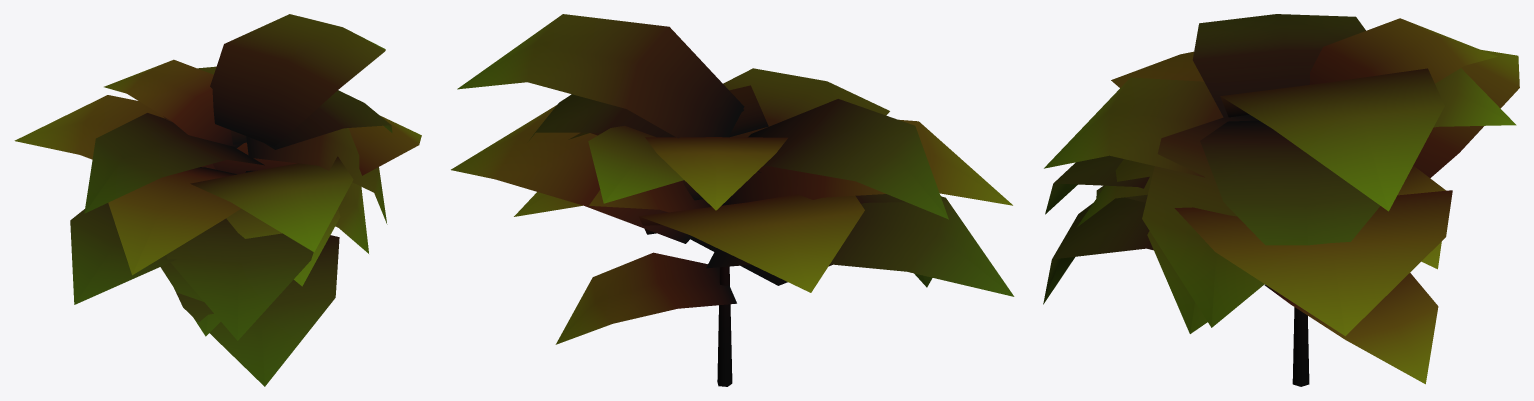
Rendered from bush_c.glb.
The picture shows the model from 3 angles, left to right: view 1: azimuth 30°, elevation 25°; view 2: azimuth 150°, elevation 25°; view 3: azimuth 270°, elevation 25°; orthographic projection. The views are drawn at different scales.
Visible parts, largest first — view 1: bush_c; view 2: bush_c; view 3: bush_c.
Boxes of the visible parts, x1,y1,x2,y2 form: bush_c: (14,14,421,386); bush_c: (451,14,1014,386); bush_c: (1043,14,1519,386).
Bounding box in the file's own units: 2.53 × 1.54 × 1.9.
1 material, 1 textured.
